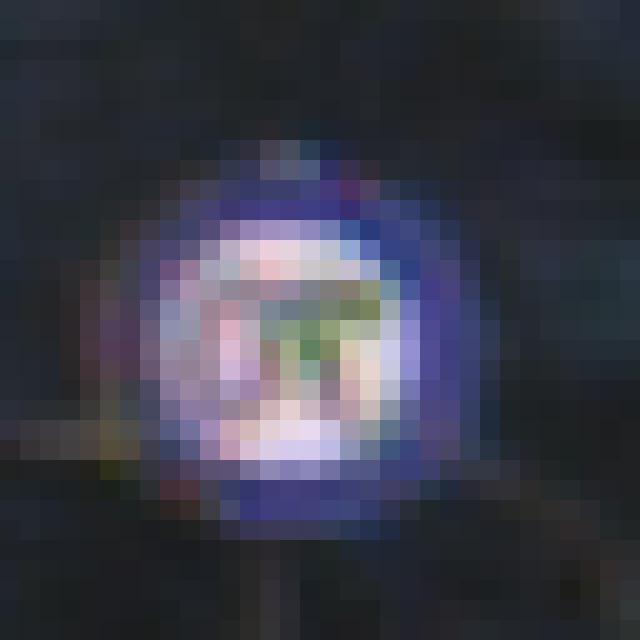SPEED LIMIT 70: (92, 157, 480, 560)
